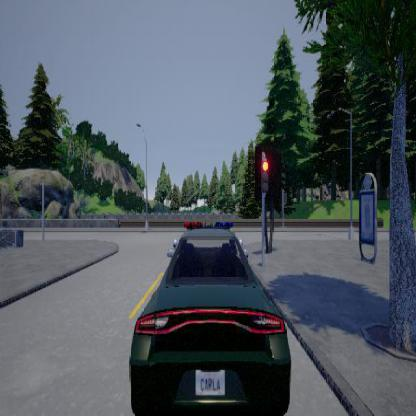traffic_light_red: (260, 153, 268, 198)
vehicle: (128, 221, 291, 415)
